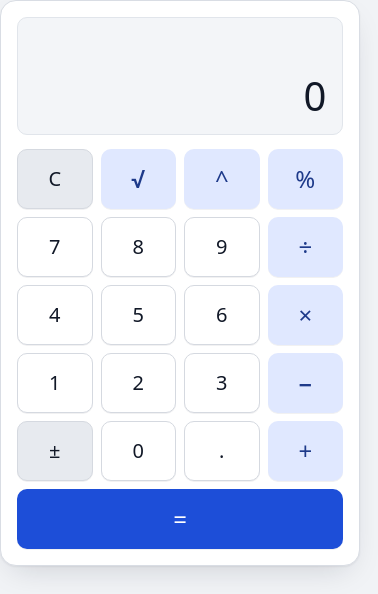
Test: Calculator › percent › shows a service failure and keeps the number
Click the button "5": [138, 315] box [100,285,176,345]
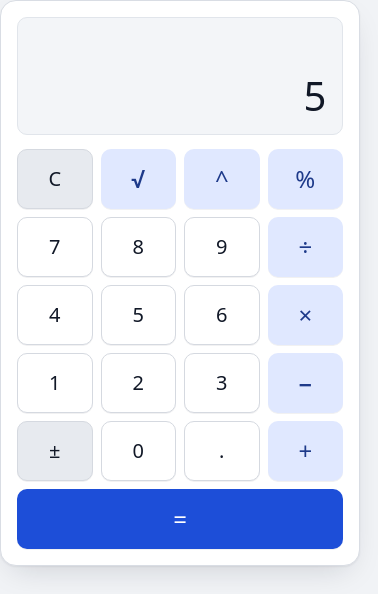
Click the button "0": [138, 451] box [100,421,176,481]
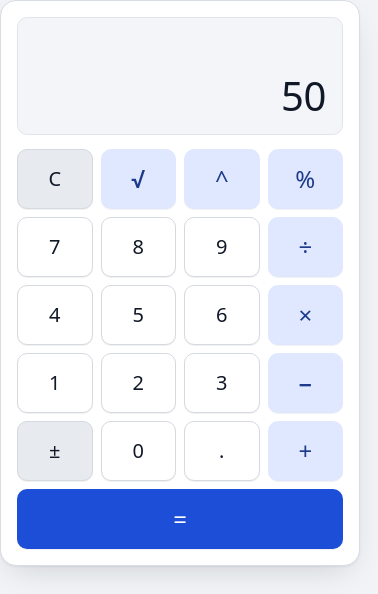
Click the button named "Percent": [305, 179] box [268,149,343,209]
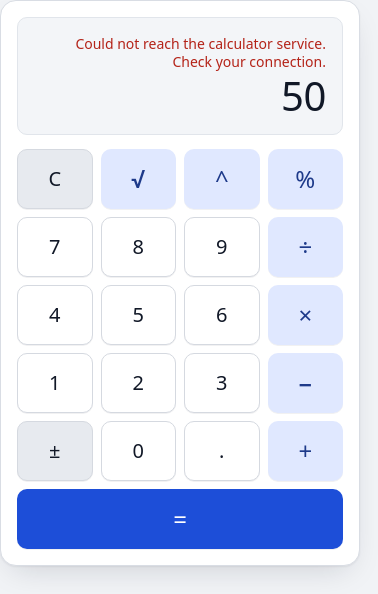
Now the message reads "Could not reach the calculator service. Check your connection.", box [75,34,326,70]
